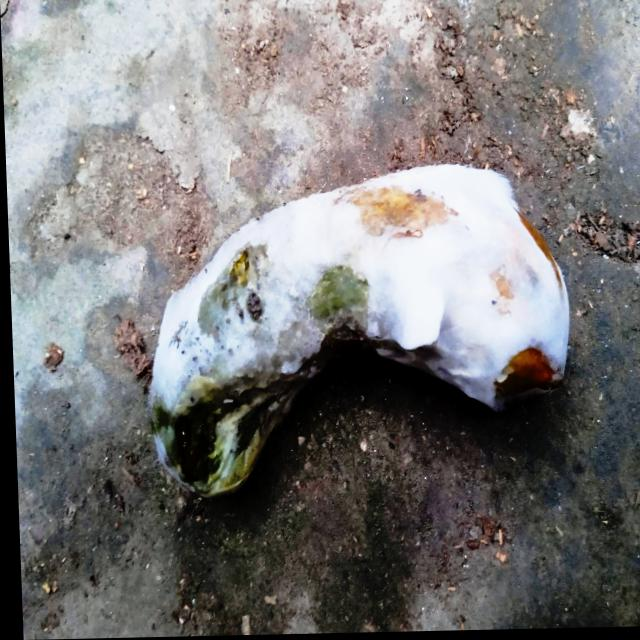Pythium-Fruit-Rot: (137, 160, 574, 500)
